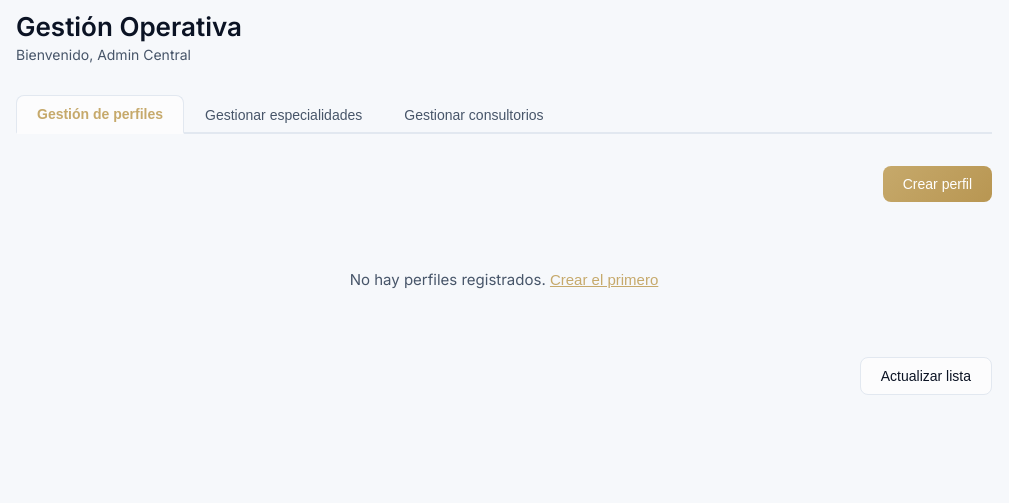
Test: AdminProfilesPage › keeps profile creation CTA only inside profile mode
Check: the button with test id "btn-create-profile" is shown, box 883,166 -> 992,202
What coordinates should you click on to do the following:
click the button with test id "btn-mode-offices"
I would click on:
 (474, 114)
Its box is 383,95 -> 565,134.
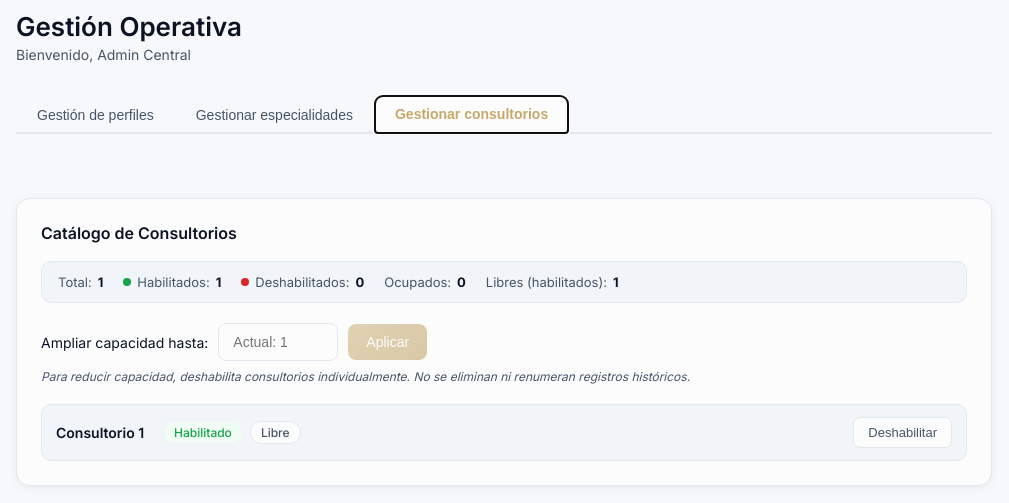
Check: the button with test id "btn-create-profile" is gone
What coordinates should you click on to do the following:
click the button with test id "btn-mode-specialties"
I would click on:
 (274, 114)
Its box is 175,95 -> 374,134.
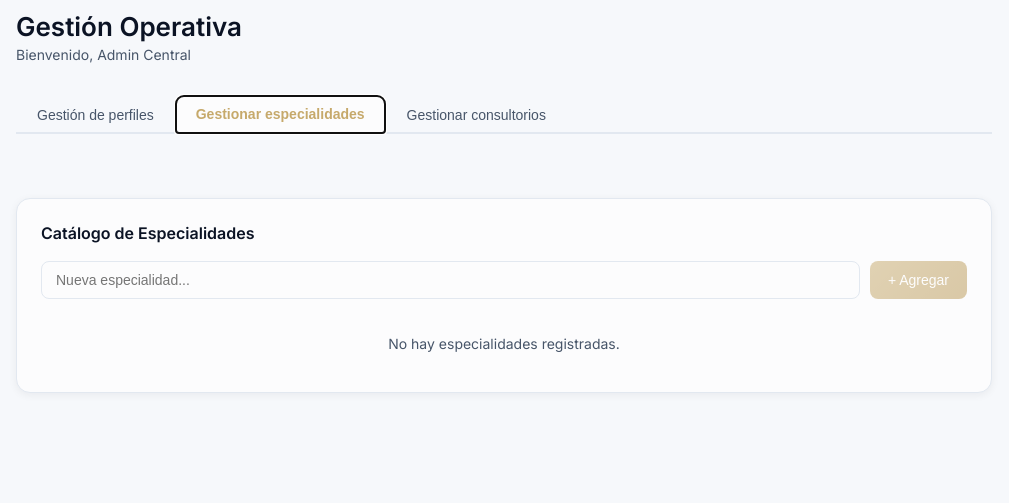
What coordinates should you click on to do the following:
click the button with test id "btn-mode-profiles"
I would click on:
 (95, 114)
Its box is 16,95 -> 175,134.
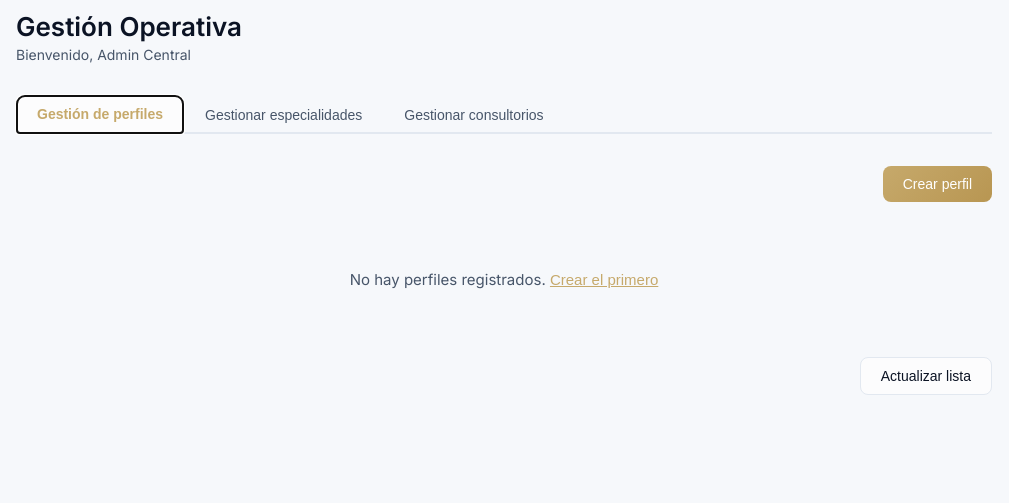
Check: the button with test id "btn-create-profile" is shown, box 883,166 -> 992,202
